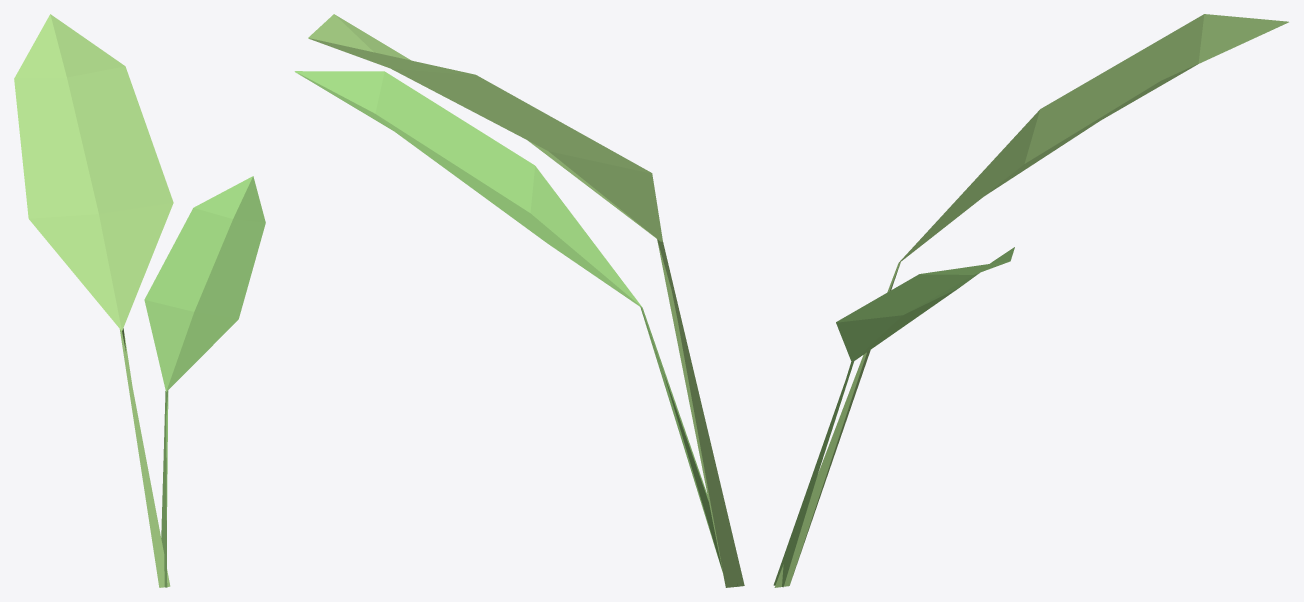
The model's file is Plant_j_TwoS_07.fbx.
3 renders of one model, left to right at view 1: azimuth 30°, elevation 25°; view 2: azimuth 150°, elevation 25°; view 3: azimuth 270°, elevation 25°, orthographic. The views are drawn at different scales.
Visible parts, largest first — view 1: Plant_j_TwoS_07; view 2: Plant_j_TwoS_07; view 3: Plant_j_TwoS_07.
Part boxes in pixels (box(x1,y1,x2,y2)): Plant_j_TwoS_07: box(14, 14, 265, 587); Plant_j_TwoS_07: box(294, 14, 744, 587); Plant_j_TwoS_07: box(773, 14, 1288, 587).
Bounding box in the file's own units: 0.1402 × 0.2664 × 0.2049.
